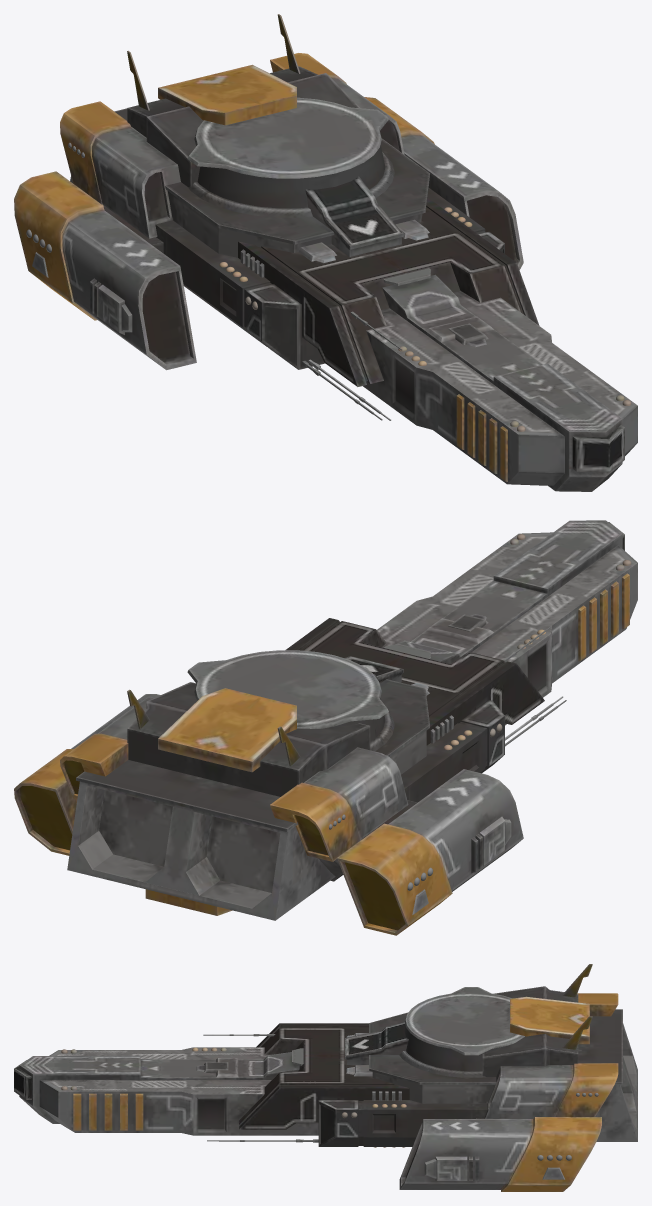
The model's file is bomber.glb.
The picture shows the model from 3 angles, top to bottom: view 1: azimuth 30°, elevation 25°; view 2: azimuth 150°, elevation 25°; view 3: azimuth 270°, elevation 25°; orthographic projection. The views are drawn at different scales.
Visible parts, largest first — view 1: Insurgent; view 2: Insurgent; view 3: Insurgent.
Boxes of the visible parts, x1,y1,x2,y2 form: Insurgent: (14, 14, 637, 491); Insurgent: (14, 520, 637, 935); Insurgent: (14, 964, 637, 1191).
Bounding box in the file's own units: 5.57 × 2.87 × 10.95.
1 material, 1 textured.
